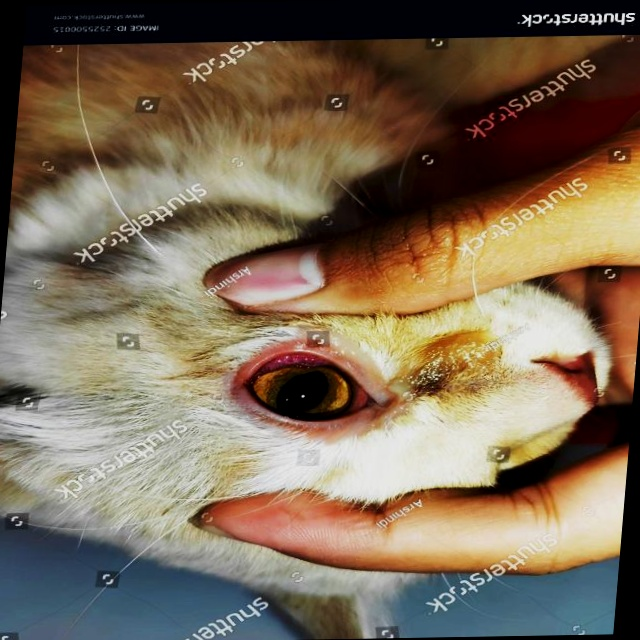eye_infection: (238, 347, 385, 431)
